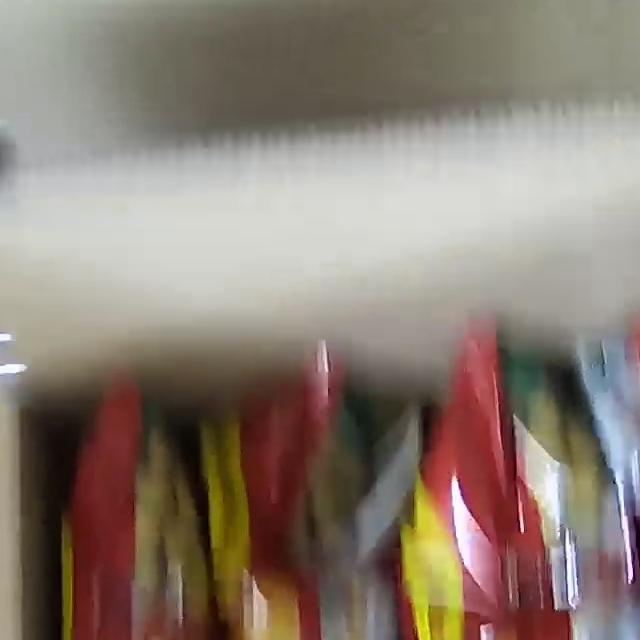masala: (52, 316, 640, 640)
